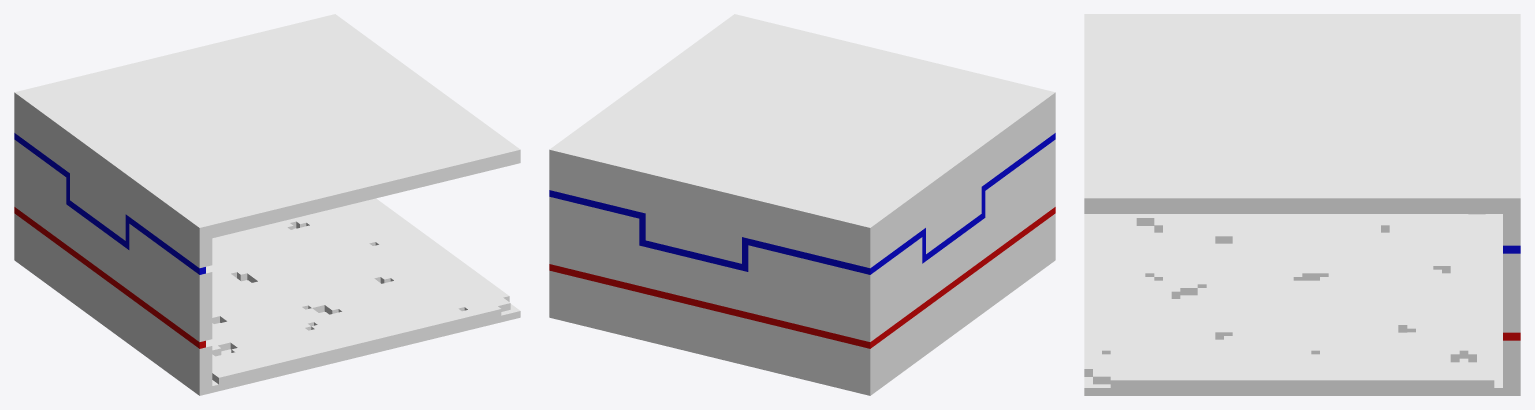
File: corridorCornerRight01_Roof.fbx
The picture shows the model from 3 angles, left to right: view 1: azimuth 30°, elevation 25°; view 2: azimuth 150°, elevation 25°; view 3: azimuth 270°, elevation 25°; orthographic projection. The views are drawn at different scales.
Visible parts, largest first — view 1: ceiling1.002, floor1.003, wall_left1.005, wall_left1.006; view 2: wall_left1.006, ceiling1.002, wall_left1.005; view 3: ceiling1.002, floor1.003, wall_left1.006, wall_left1.005.
Part boxes in pixels (x1,y1,x2,y2): ceiling1.002: [35, 19, 520, 238]; floor1.003: [206, 198, 520, 392]; wall_left1.005: [14, 89, 212, 395]; wall_left1.006: [14, 14, 342, 264]; wall_left1.006: [549, 144, 877, 395]; ceiling1.002: [557, 14, 1042, 219]; wall_left1.005: [857, 89, 1055, 395]; ceiling1.002: [1084, 21, 1502, 213]; floor1.003: [1084, 214, 1502, 395]; wall_left1.006: [1503, 14, 1520, 395]; wall_left1.005: [1084, 14, 1520, 21].
Bounding box in the file's own units: 4 × 2 × 4.
Materials: 4 (4 with a texture image).
